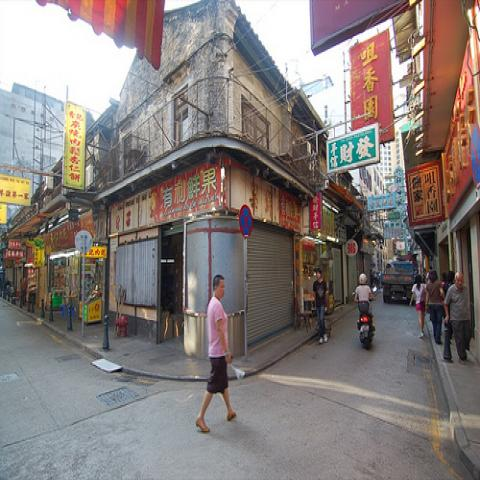motorcycle: (359, 314, 376, 348)
truck: (381, 257, 414, 306)
